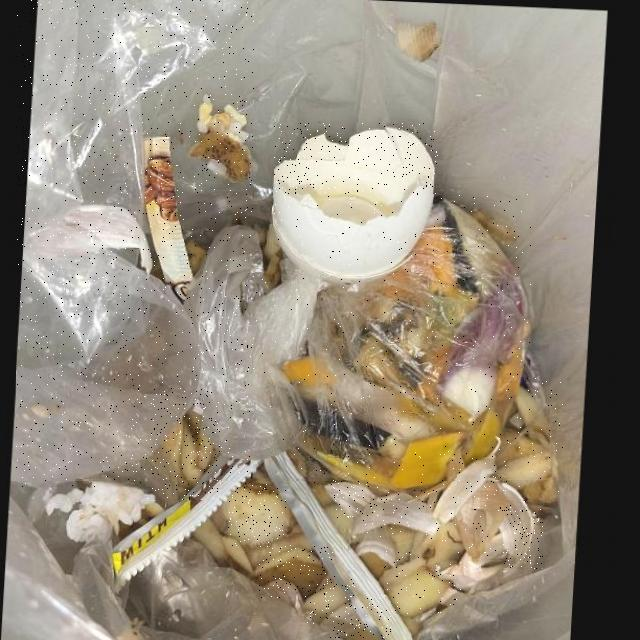biowaste: (290, 194, 531, 487), (275, 123, 438, 278), (151, 395, 221, 500), (441, 438, 505, 519), (458, 475, 517, 560), (385, 551, 461, 614), (359, 489, 453, 537), (257, 543, 334, 598), (504, 475, 543, 569), (519, 378, 563, 460), (229, 485, 286, 546), (506, 445, 568, 500), (417, 514, 473, 569), (331, 595, 391, 639), (306, 574, 355, 626), (331, 481, 379, 519)
plastic: (17, 0, 255, 487), (189, 224, 324, 457)
